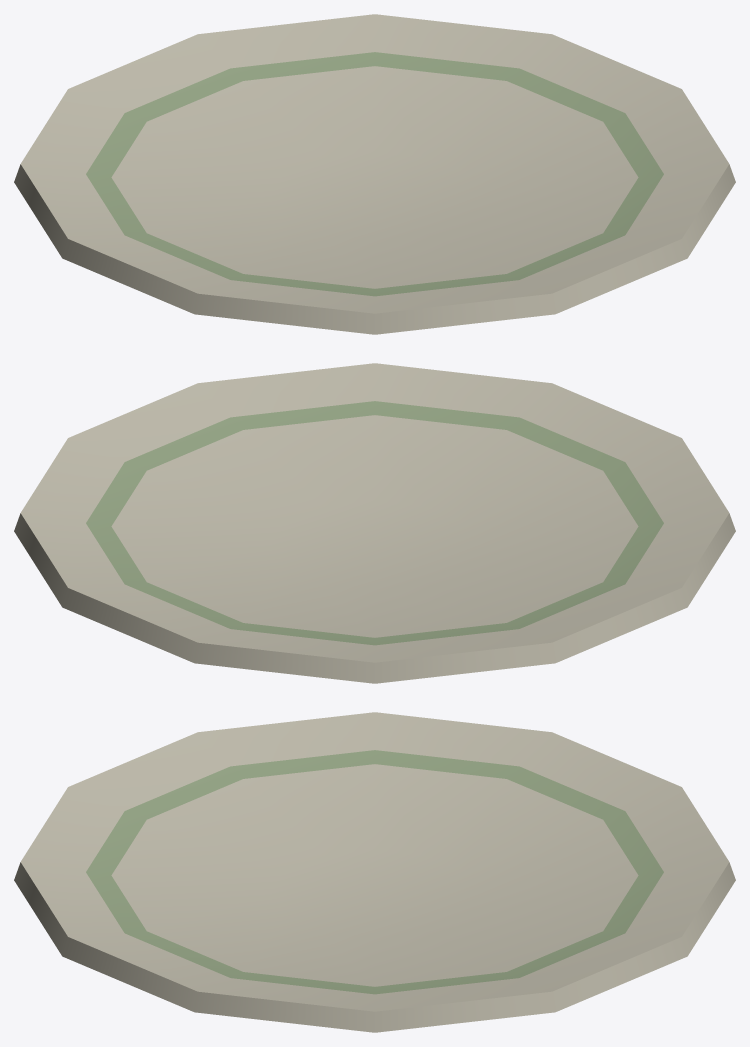
File: Plate_01.fbx
The picture shows the model from 3 angles, top to bottom: view 1: azimuth 30°, elevation 25°; view 2: azimuth 150°, elevation 25°; view 3: azimuth 270°, elevation 25°; orthographic projection.
Visible parts, largest first — view 1: Plate_01; view 2: Plate_01; view 3: Plate_01.
Part boxes in pixels (left/top/right/bottom): Plate_01: left=14, top=14, right=735, bottom=334; Plate_01: left=14, top=363, right=735, bottom=683; Plate_01: left=14, top=712, right=735, bottom=1032.
Bounding box in the file's own units: 0.2507 × 0.0223 × 0.2507.
